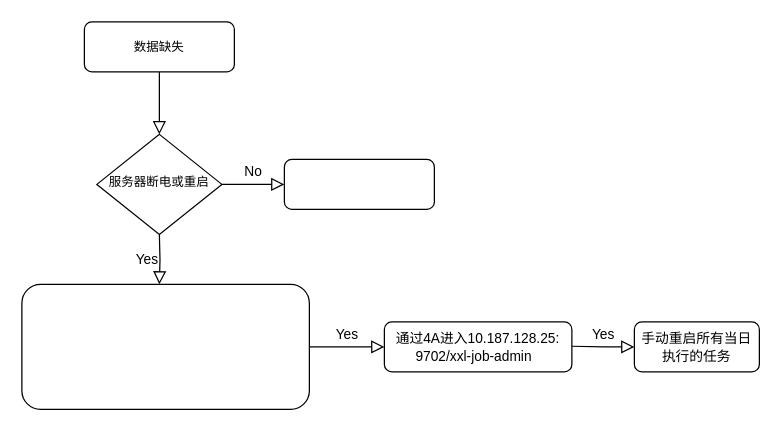
Image size: 781x431. Some labels were removed from this diagram. Here are the shapes that lost their labels. From the top down, the box of each, then its label:
(283, 158, 434, 209): 通知开发查找问题，具体见开发流程
(21, 283, 309, 409): 重启25服务器的配置中心 重启25服务器的定时任务中心 监控25服务器Redis数据库是否正常 监控5服务器mysql数据库是否正常
